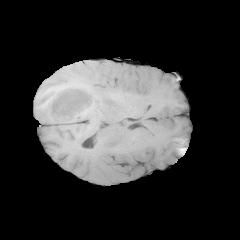glioma: (45, 82, 99, 123)
